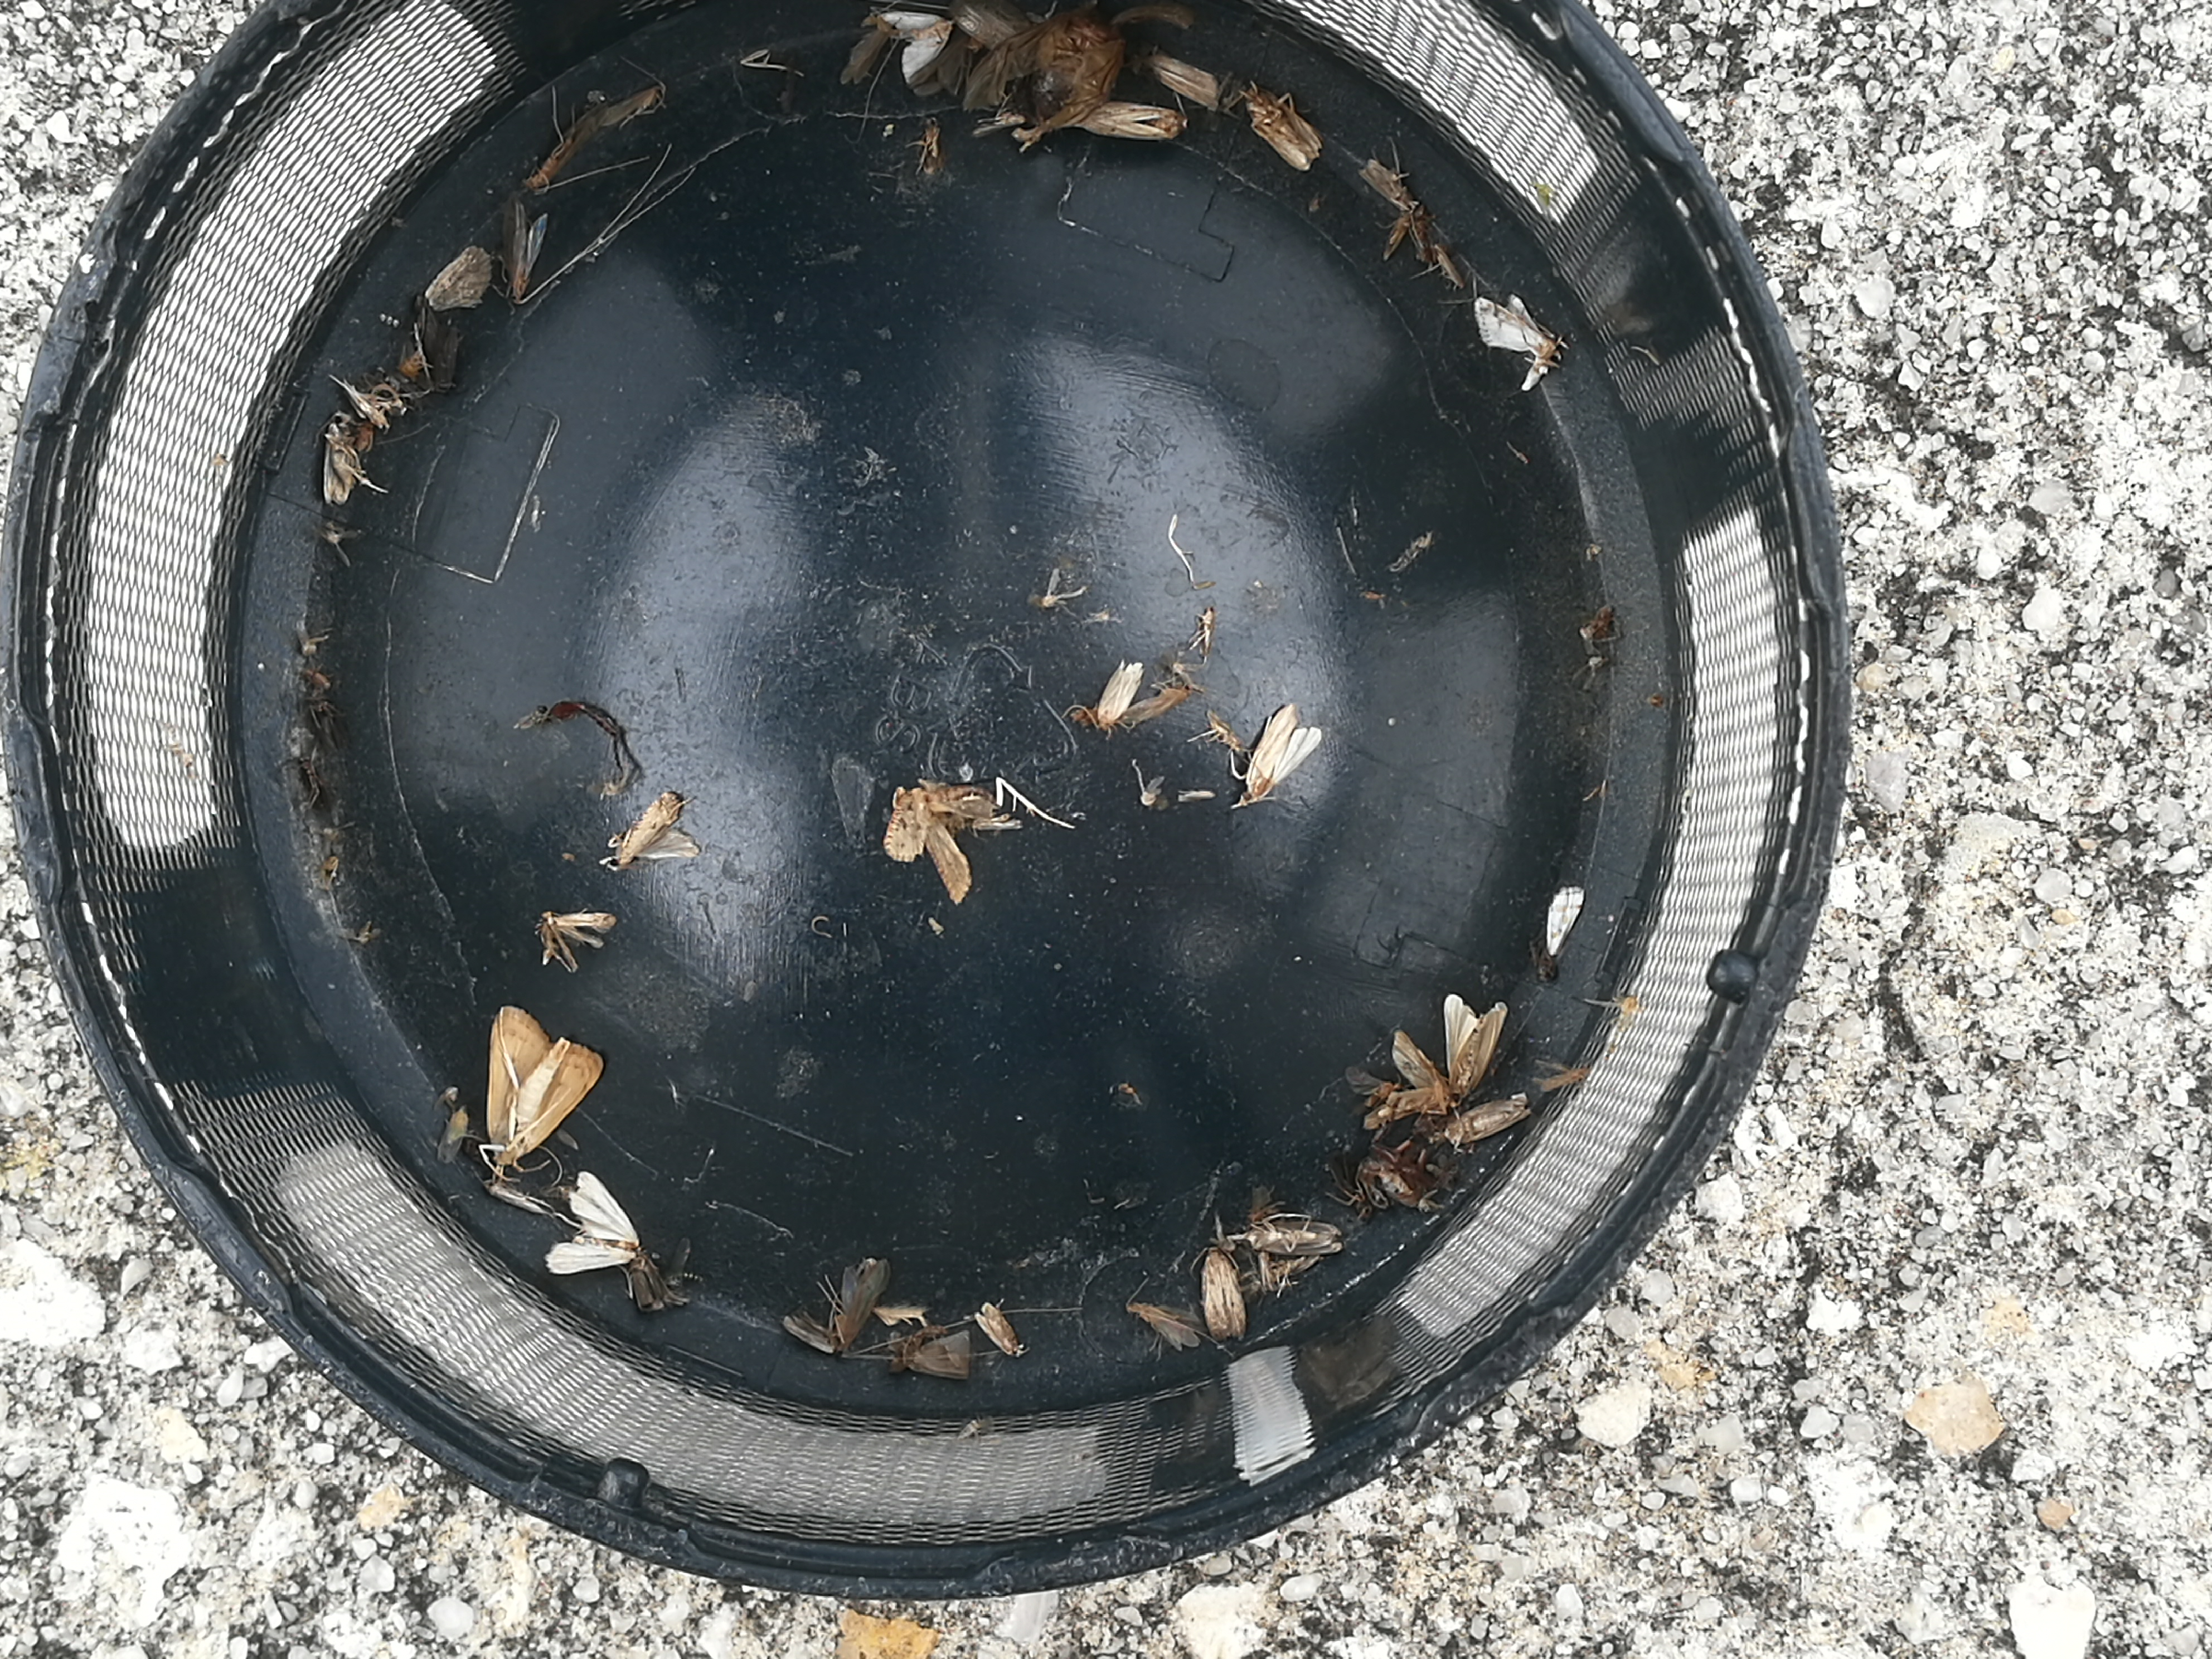beetle: (1033, 10, 1120, 113)
mosquito: (603, 795, 685, 871), (526, 112, 592, 190), (833, 1262, 885, 1352), (503, 204, 547, 298), (1442, 1098, 1527, 1143), (1125, 1302, 1200, 1351), (1080, 105, 1184, 136), (1359, 160, 1414, 213), (1122, 683, 1191, 725), (1242, 1222, 1339, 1251), (597, 85, 664, 125), (975, 1305, 1022, 1356), (324, 415, 350, 502), (482, 1180, 540, 1213)
moth: (486, 1006, 604, 1161), (887, 784, 988, 903), (545, 1169, 636, 1272), (1238, 706, 1320, 807), (1475, 295, 1557, 380), (1247, 85, 1322, 171), (1447, 997, 1507, 1100), (880, 10, 944, 80), (1204, 1248, 1245, 1337)
